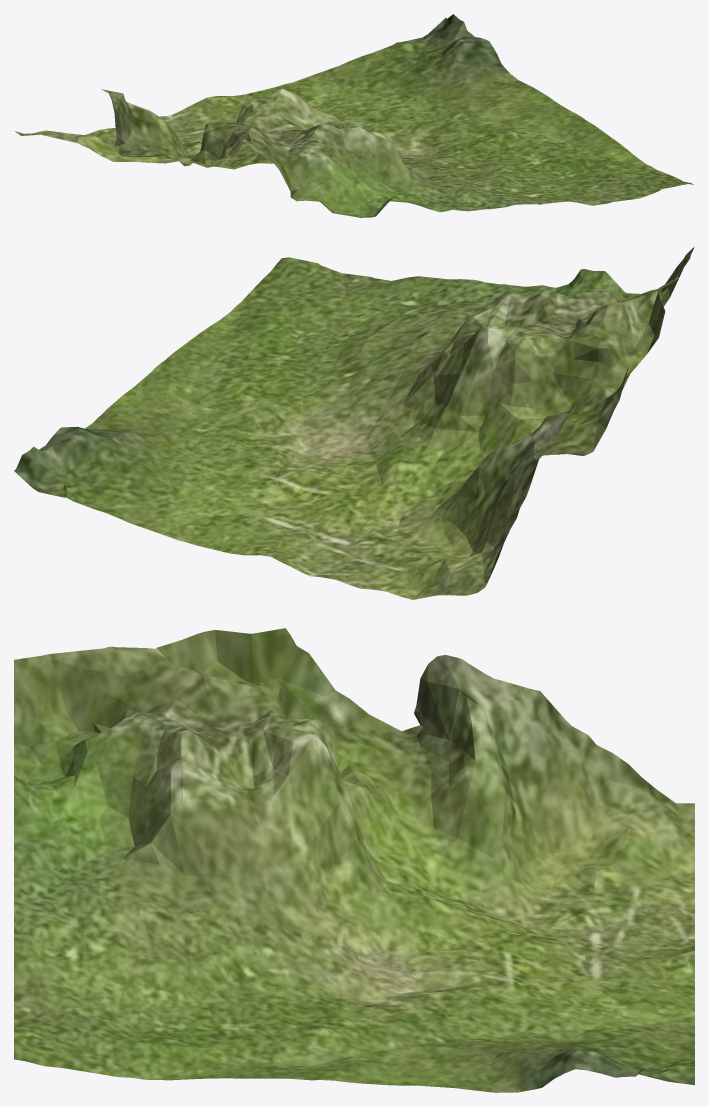
The picture shows the model from 3 angles, top to bottom: view 1: azimuth 30°, elevation 25°; view 2: azimuth 150°, elevation 25°; view 3: azimuth 270°, elevation 25°; orthographic projection. The views are drawn at different scales.
Bounding box in the file's own units: 5.9 × 1.98 × 5.9.
Materials: 3 (3 with a texture image).
